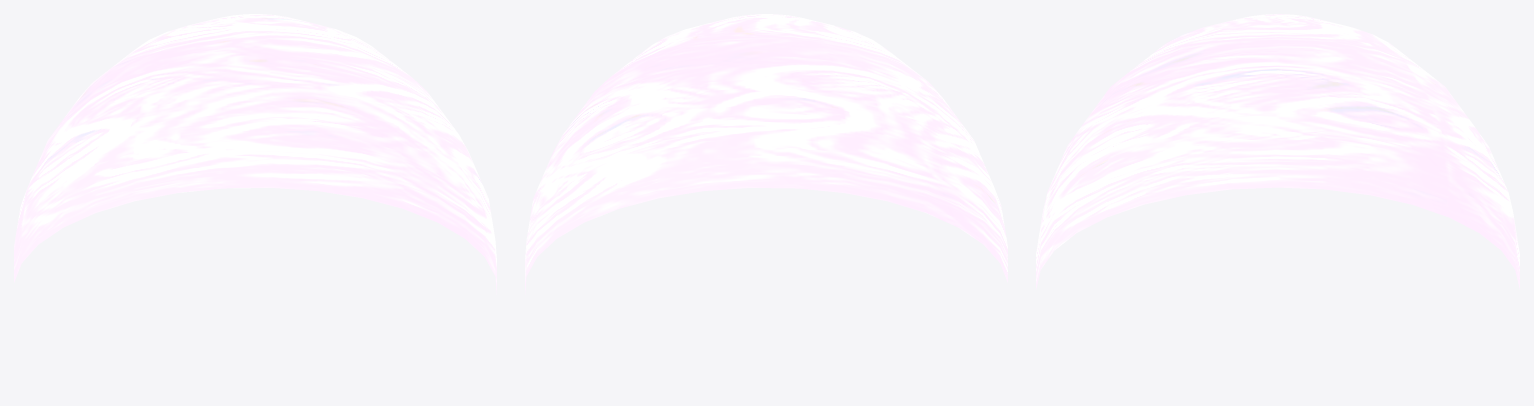
File: dome.glb
3 renders of one model, left to right at view 1: azimuth 30°, elevation 25°; view 2: azimuth 150°, elevation 25°; view 3: azimuth 270°, elevation 25°, orthographic.
Visible parts, largest first — view 1: Cube; view 2: Cube; view 3: Cube.
Part boxes in pixels (x1=…): Cube: x1=14, y1=14, x2=496, y2=294; Cube: x1=525, y1=14, x2=1007, y2=294; Cube: x1=1036, y1=14, x2=1519, y2=289.
Size of the model in its own units: 439 by 256 by 439.
1 material, 1 textured.
